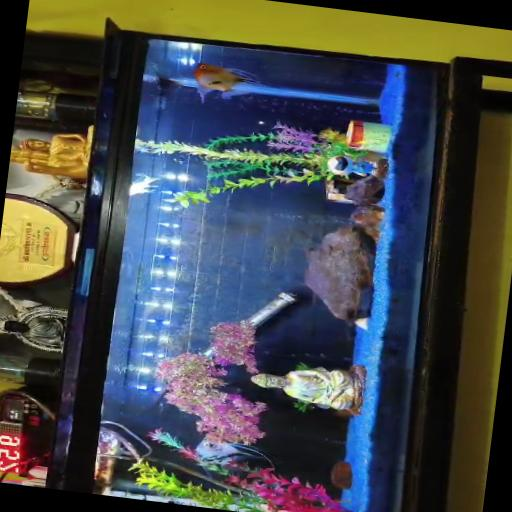Fish: (194, 63, 269, 102), (196, 440, 273, 467), (130, 173, 161, 196)
